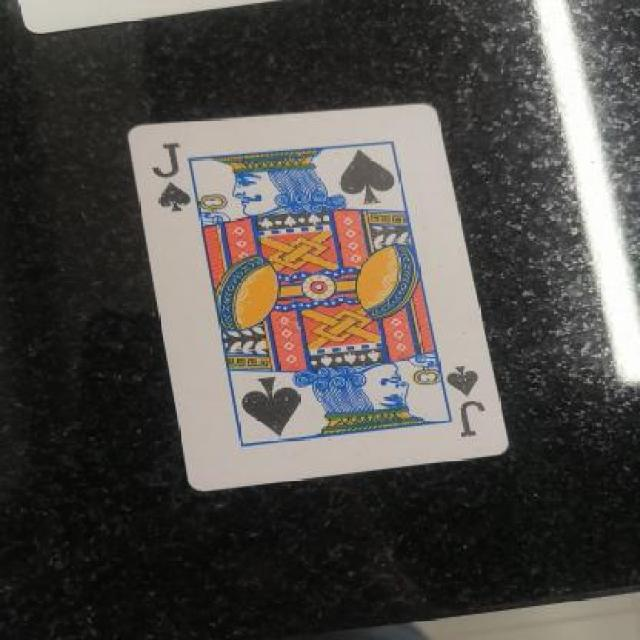JS: (436, 362, 496, 442), (152, 142, 195, 221)
